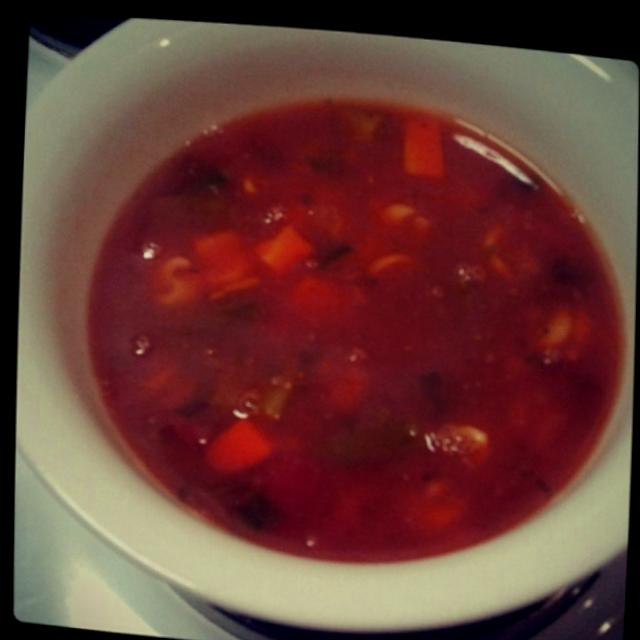汤锅炖物: (43, 43, 636, 623)
